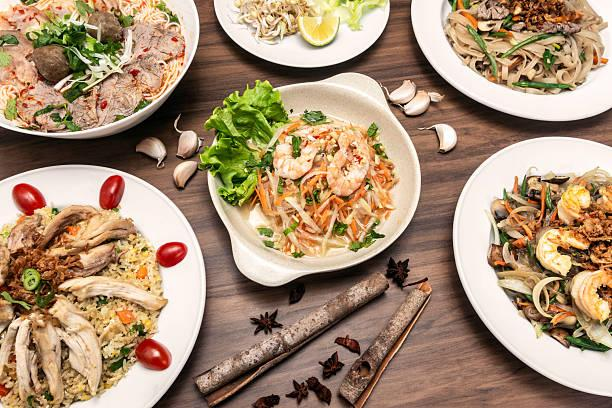Braised Crucian Carp: (1, 165, 207, 408), (207, 73, 420, 285), (450, 136, 611, 398), (1, 0, 199, 138), (413, 0, 611, 121)
